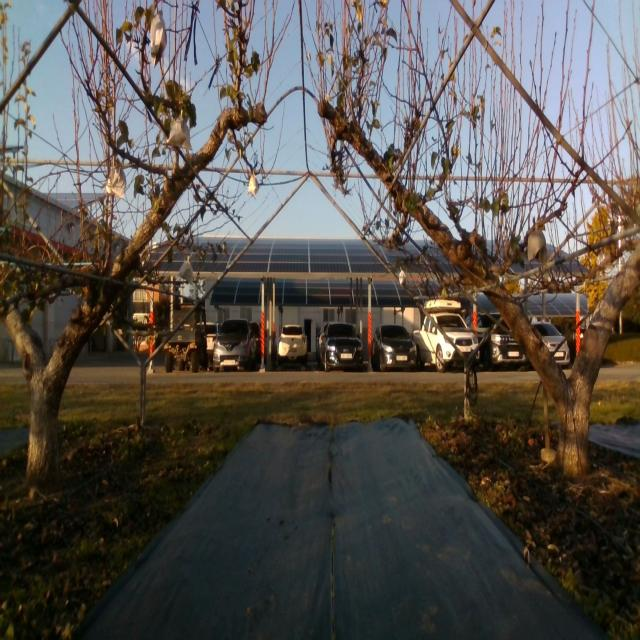pearbags: (150, 14, 167, 67), (168, 116, 192, 151), (528, 230, 547, 264), (106, 164, 126, 196), (179, 261, 193, 286), (248, 175, 259, 195)
